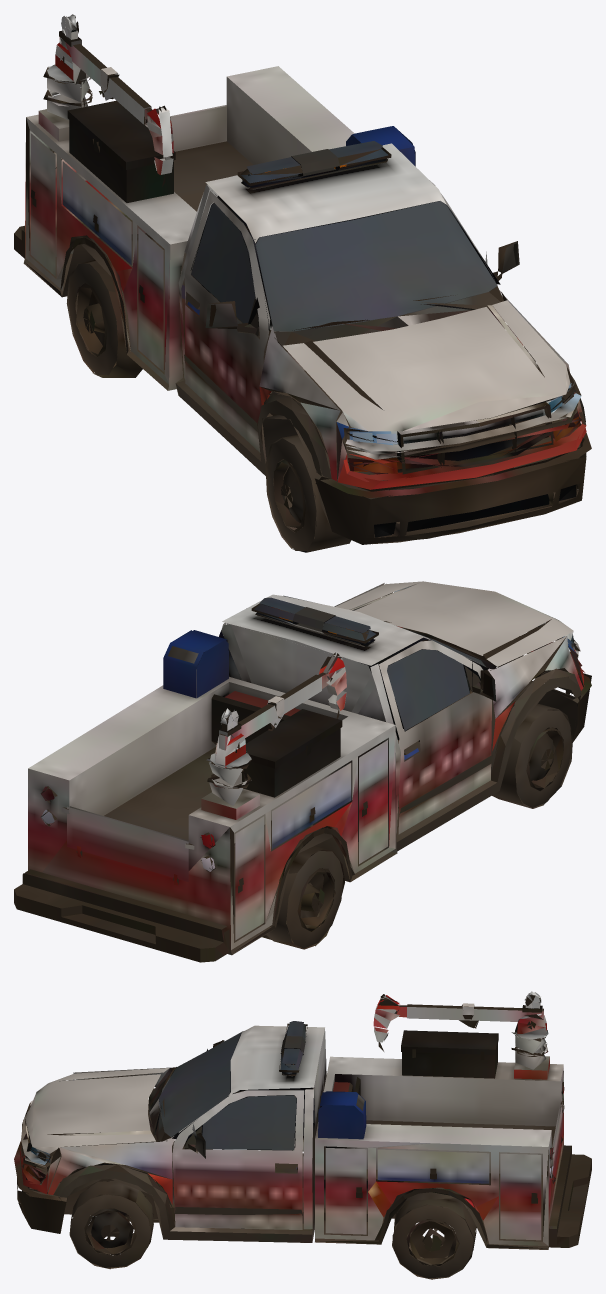
Rendered from pack-road-service-L2.glb.
The picture shows the model from 3 angles, top to bottom: view 1: azimuth 30°, elevation 25°; view 2: azimuth 150°, elevation 25°; view 3: azimuth 270°, elevation 25°; orthographic projection. The views are drawn at different scales.
Parts seen in each view (by area): view 1: body; view 2: body; view 3: body.
Part boxes in pixels (x1,y1,x2,y2): body: (14, 14, 591, 552); body: (14, 581, 591, 962); body: (14, 991, 591, 1279).
Bounding box in the file's own units: 2.29 × 2.19 × 5.33.
1 material, 1 textured.
